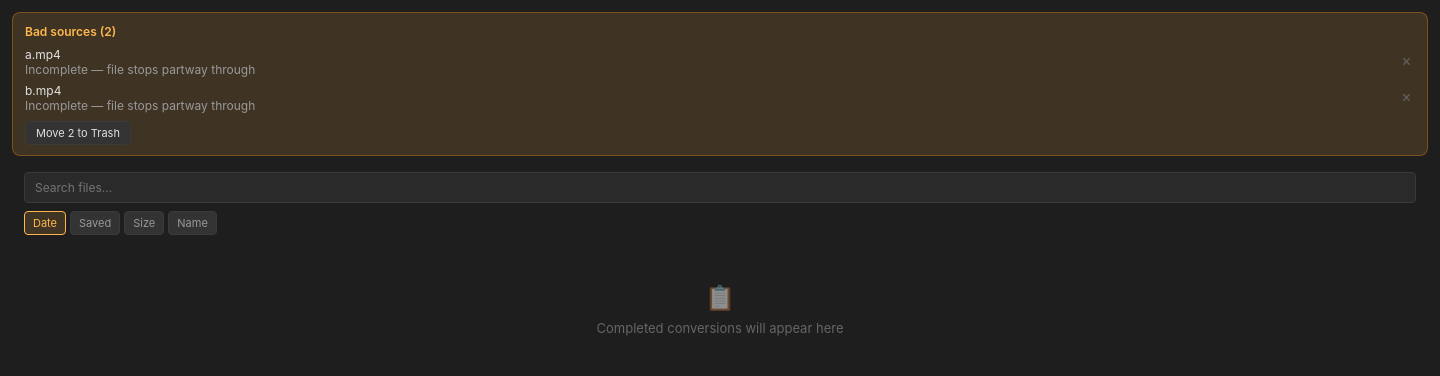
Test: HistoryPage › bad-source review list › reports outcomes honestly when some files are left alone, not silently implying everything was destroyed
The image size is (1440, 376).
Expected: the text "Bad sources (2)" is shown, [25,24,116,39]
Click the button "Move 2 to Trash". click: x=78, y=133
box: [25,121,131,145]
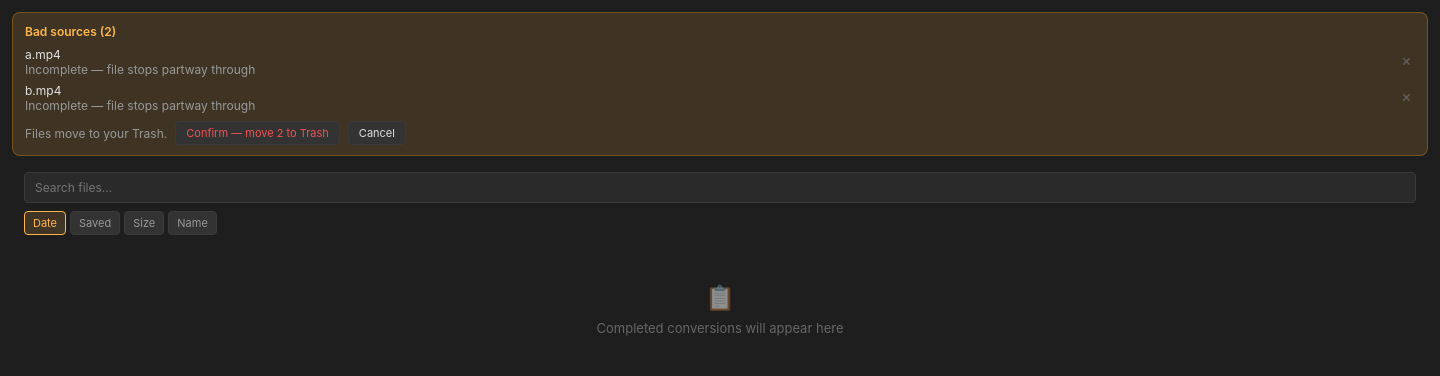
Click the button "Confirm — move 2 to Trash". click: x=258, y=133
box: [175,121,340,145]
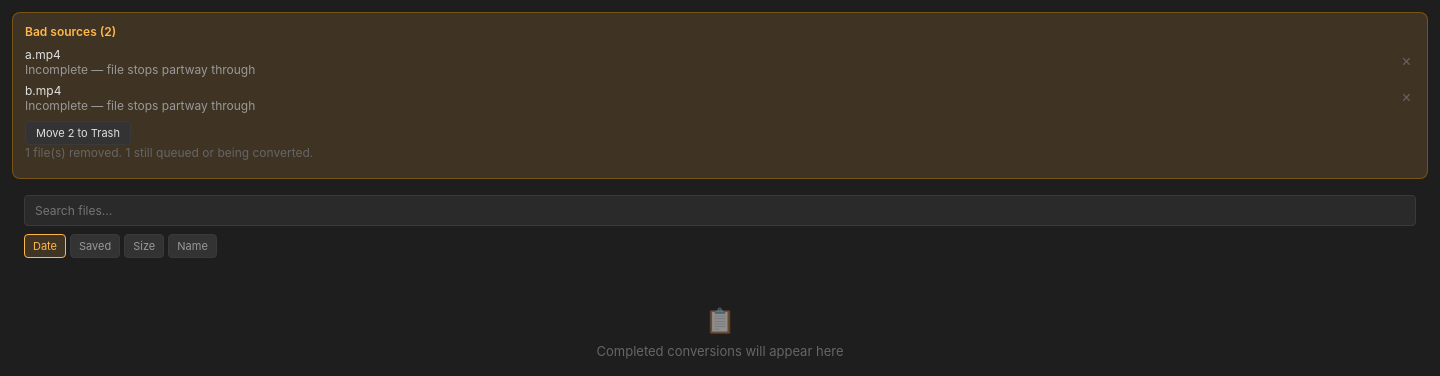
Now the text "1 file(s) removed. 1 still queued or being converted." is shown, box [25,145,313,160]
